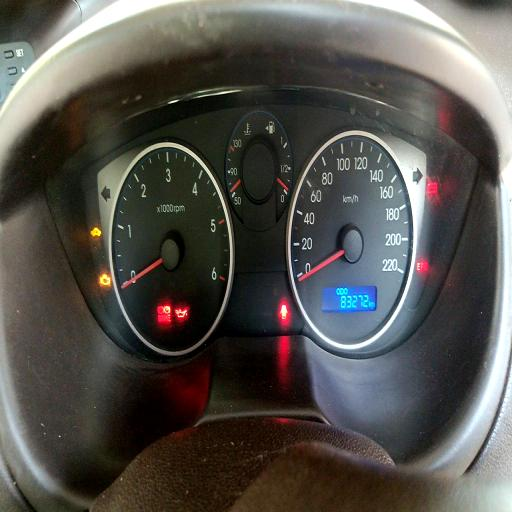oil: (175, 309, 187, 318)
tachometer: (109, 141, 234, 356)
